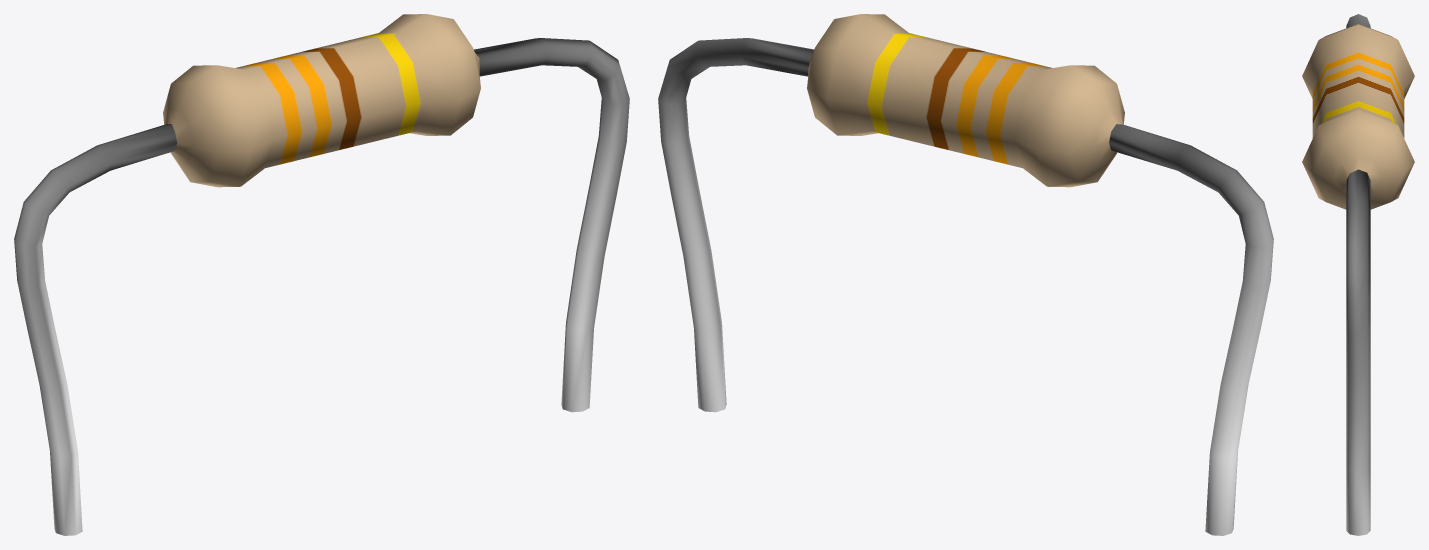
The model's file is Resistor_330.fbx.
The picture shows the model from 3 angles, left to right: view 1: azimuth 30°, elevation 25°; view 2: azimuth 150°, elevation 25°; view 3: azimuth 270°, elevation 25°; orthographic projection. The views are drawn at different scales.
Visible parts, largest first — view 1: 330_Resistor_1_4W; view 2: 330_Resistor_1_4W; view 3: 330_Resistor_1_4W.
Part boxes in pixels (x1,y1,x2,y2): 330_Resistor_1_4W: (14,14,629,535); 330_Resistor_1_4W: (658,14,1273,535); 330_Resistor_1_4W: (1302,14,1414,535).
Size of the model in its own units: 0.0121 by 0.00808 by 0.0023.
